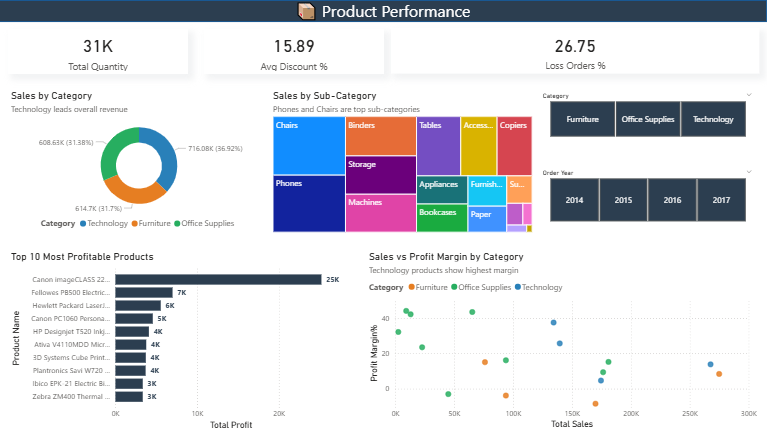

The page's visual inventory and layout, read from the dashboard file:
{"tool":"powerbi","page":{"name":"Product Performance","canvas":[1280,720],"ordinal":2},"visuals":[{"type":"shape","box":[0,0,1279.8,36.7],"z":0},{"type":"card","fields":{"Values":["Orders.Total Quantity"]},"box":[14.7,48.5,299.8,74.9],"z":1000},{"type":"card","fields":{"Values":["Orders.Avg Discount %"]},"box":[340.9,48.5,299.8,74.9],"z":2000},{"type":"card","fields":{"Values":["Orders.Loss Orders %"]},"box":[653.9,47,614.2,76.4],"z":3000},{"type":"donutChart","title":"Sales by Category","fields":{"Category":["Orders.Category"],"Y":["Orders.Total Sales"]},"box":[15.1,147.8,436.7,243.6],"z":4000},{"type":"treemap","title":"Sales by Sub-Category","fields":{"Group":["Orders.Sub-Category"],"Values":["Orders.Total Sales"]},"box":[451.9,147.8,441.8,243.6],"z":5000},{"type":"slicer","fields":{"Values":["Orders.Category"]},"box":[893.6,147.8,374.6,85.7],"z":6000},{"type":"slicer","fields":{"Values":["Orders.Order Year"]},"box":[893.6,277.2,374.6,99.1],"z":7000},{"type":"clusteredBarChart","title":"Top 10 Most Profitable Products","fields":{"Category":["Orders.Product Name"],"Y":["Orders.Total Profit"]},"box":[15.1,416.6,579.5,304],"z":8000},{"type":"scatterChart","title":"Sales vs Profit Margin by Category","fields":{"X":["Orders.Total Sales"],"Series":["Orders.Category"],"Y":["Orders.Profit Margin%"],"Category":["Orders.Sub-Category"]},"box":[611.4,416.6,656.8,304],"z":9000}]}

Visuals, with their boxes in screenshot pixels (x1, y1, x2, y2), scaled from the page's 1280x720 canvas onto the 767x432 screenshot:
shape: x1=0, y1=0, x2=766, y2=22
card - Orders.Total Quantity: x1=9, y1=29, x2=188, y2=74
card - Orders.Avg Discount %: x1=204, y1=29, x2=384, y2=74
card - Orders.Loss Orders %: x1=392, y1=28, x2=760, y2=74
"Sales by Category" donutChart: x1=9, y1=89, x2=271, y2=235
"Sales by Sub-Category" treemap: x1=271, y1=89, x2=536, y2=235
slicer - Orders.Category: x1=535, y1=89, x2=760, y2=140
slicer - Orders.Order Year: x1=535, y1=166, x2=760, y2=226
"Top 10 Most Profitable Products" clusteredBarChart: x1=9, y1=250, x2=356, y2=431
"Sales vs Profit Margin by Category" scatterChart: x1=366, y1=250, x2=760, y2=431
